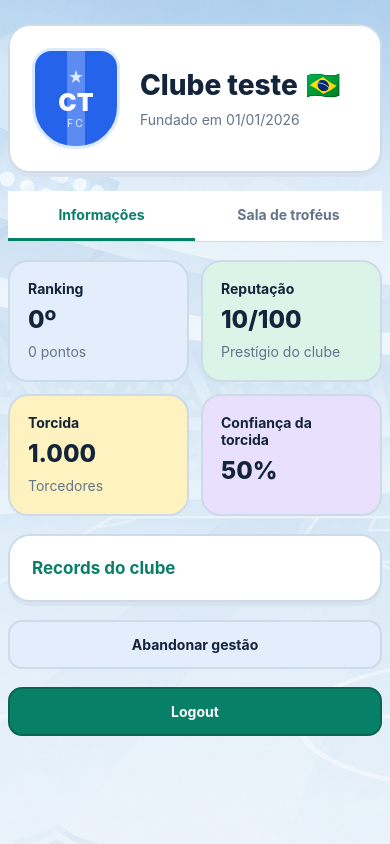
Test case: rejected resignation keeps the current club and displays the reason
This screenshot has width=390, height=844.
Click the button "Abandonar gestão".
click(195, 645)  # box x1=8 y1=620 x2=382 y2=669
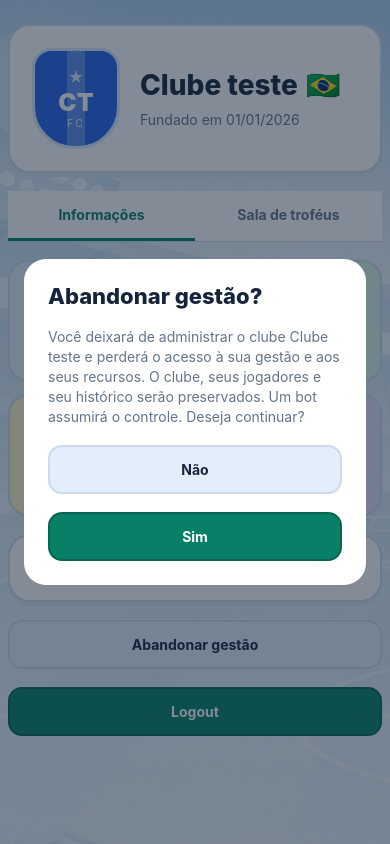
Click the button "Sim".
click(195, 536)  # box x1=48 y1=512 x2=342 y2=561
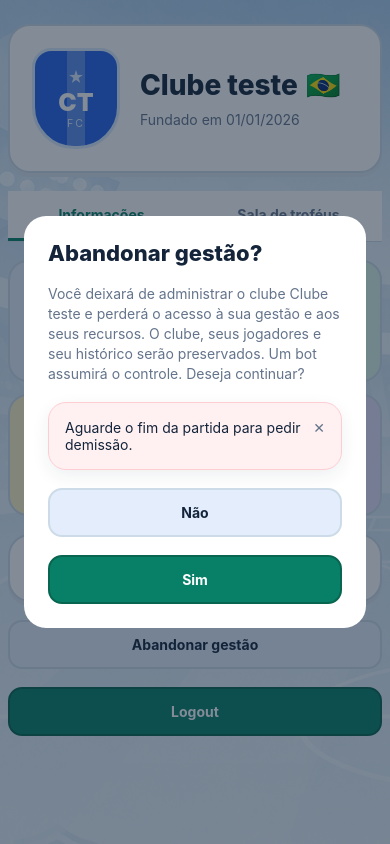
Check: the text "Aguarde o fim da partida para pedir demissão." is shown, box x1=65 y1=419 x2=301 y2=453
